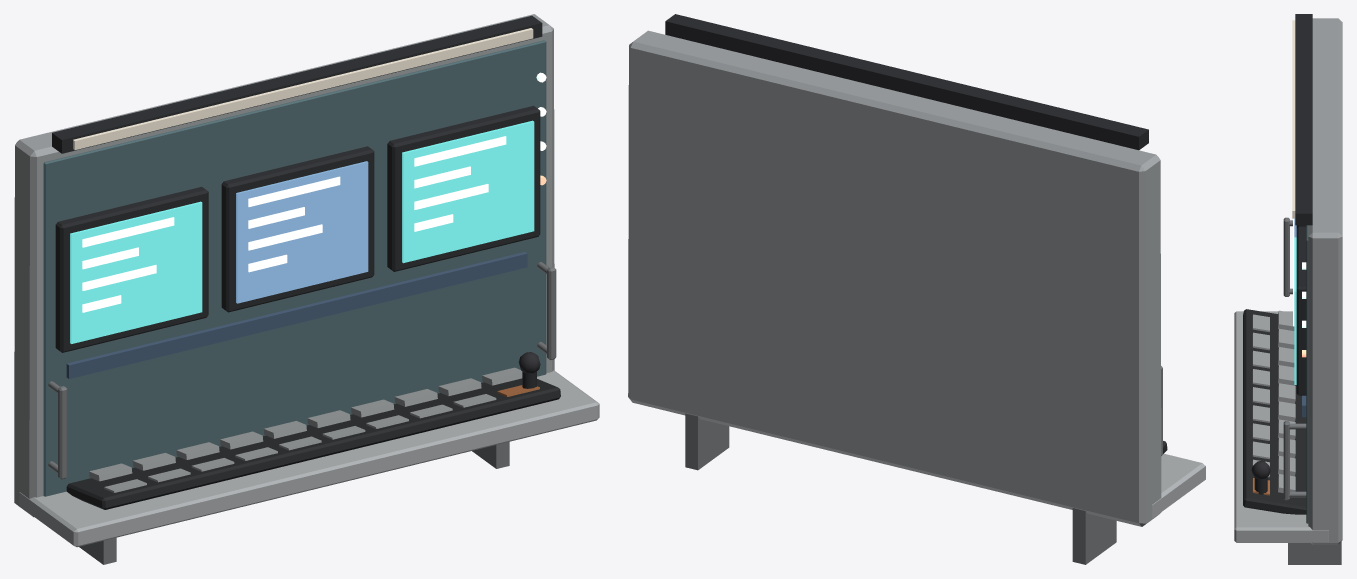
File: astro_wall_console.fbx
3 renders of one model, left to right at view 1: azimuth 30°, elevation 25°; view 2: azimuth 150°, elevation 25°; view 3: azimuth 270°, elevation 25°, orthographic. The views are drawn at different scales.
Visible parts, largest first — view 1: WallConsole_Body; view 2: WallConsole_Body; view 3: WallConsole_Body.
Part boxes in pixels (x1,y1,x2,y2): WallConsole_Body: (14,14,599,564); WallConsole_Body: (628,14,1205,564); WallConsole_Body: (1234,14,1342,564).
Size of the model in its own units: 241 by 188 by 50.5.
